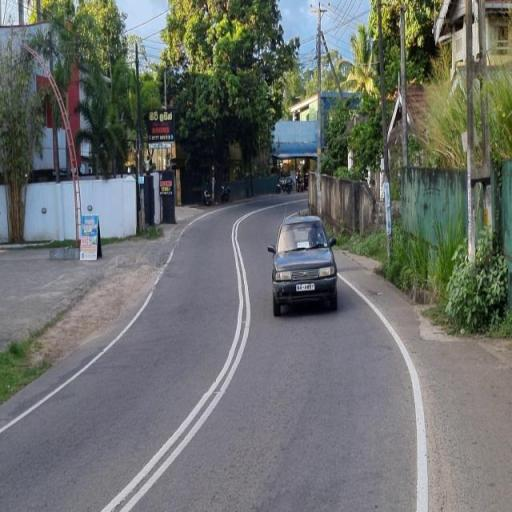double_white_line: (101, 205, 249, 511)
